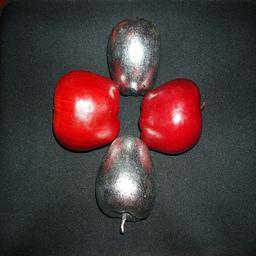apple: (50, 70, 120, 151), (139, 79, 203, 155)
